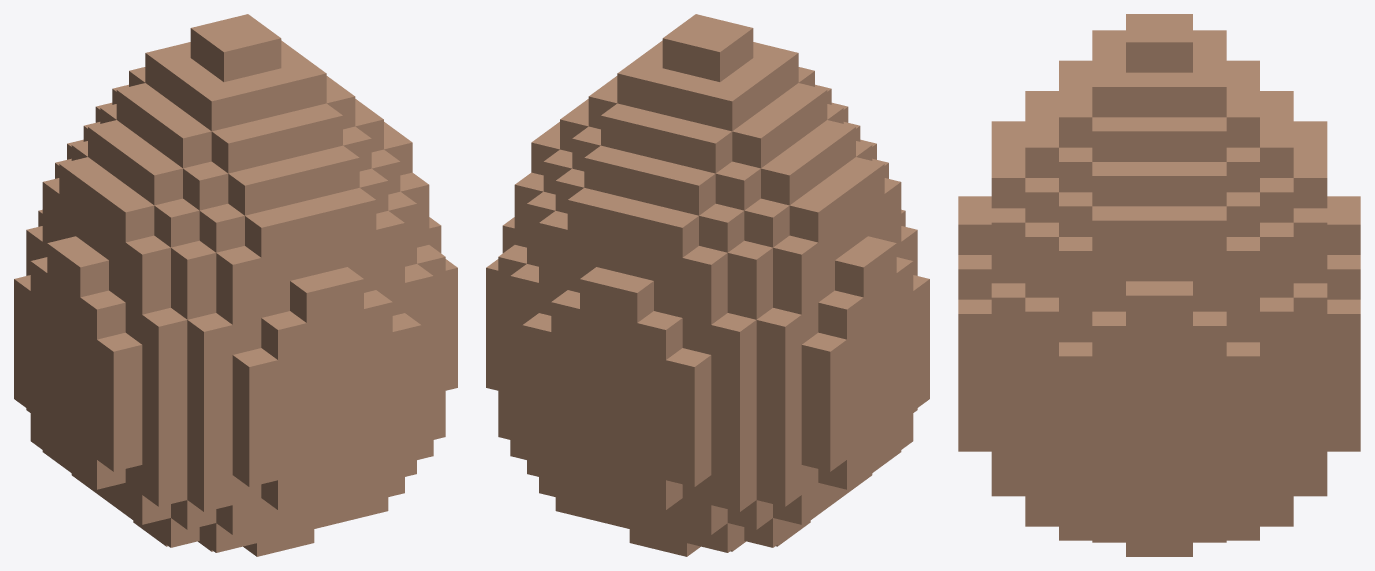
File: Brown_Egg.glb
The picture shows the model from 3 angles, left to right: view 1: azimuth 30°, elevation 25°; view 2: azimuth 150°, elevation 25°; view 3: azimuth 270°, elevation 25°; orthographic projection.
Parts seen in each view (by area): view 1: Cube_copy_copy_copy_copy_copy_copy_copy_copy_copy_copy_copy_ (×71), Cube_copy_1, Cube_copy_copy_copy_6, Cube_copy_copy_copy, Cube_copy_copy_copy_copy_copy_copy_copy_copy_copy, Cube_copy_copy_copy_9, Cube_copy_copy_copy_copy_copy_5, Cube_copy_4, Cube_copy_copy_copy_2, Cube_copy_copy_copy_copy_copy_copy_copy_copy_1, Cube_copy_copy_copy_copy_copy_8, Cube_copy_copy_copy_copy_copy_copy_6 (+59 smaller); view 2: Cube_copy_copy_copy_copy_copy_copy_copy_copy_copy_copy_copy_ (×71), Cube, Cube_copy_copy_copy_copy_copy_15, Cube_copy_copy_1, Cube_copy_copy_copy_copy_copy_17, Cube_copy_copy_copy_copy_copy_copy_copy_25, Cube_copy_copy_copy_20, Cube_copy_copy_4, Cube_copy_copy_copy_copy_copy_copy_copy_21, Cube_copy_copy_copy_copy_copy_copy_24, Cube_copy_copy_copy_copy_copy_copy_21, Cube_copy_copy_copy_copy_copy_copy_copy_copy_22 (+59 smaller); view 3: Cube_copy_copy_copy_copy_copy_copy_copy_copy_copy_copy_copy_ (×99), Cube_copy_copy_copy_copy_copy_copy_12, Cube_copy_copy_copy_copy_copy_copy_copy_copy_copy_copy_2, Cube_copy_copy_copy_copy_6, Cube_copy_5, Cube_copy_copy_12, Cube_copy_copy_copy_copy_copy_copy_19, Cube_copy_copy_copy_copy_18, Cube_copy_copy_8, Cube_copy_copy_copy_copy_4, Cube_copy_copy_copy_13, Cube_copy_copy_copy_copy_9 (+60 smaller).
Boxes of the visible parts, x1=… form: Cube_copy_copy_copy_copy_copy_copy_copy_copy_copy_copy_copy_ (×71): x1=26, y1=21, x2=445, y2=552; Cube_copy_1: x1=80, y1=290, x2=125, y2=339; Cube_copy_copy_copy_6: x1=290, y1=274, x2=335, y2=322; Cube_copy_copy_copy: x1=63, y1=248, x2=108, y2=297; Cube_copy_copy_copy_copy_copy_copy_copy_copy_copy: x1=125, y1=235, x2=170, y2=284; Cube_copy_copy_copy_9: x1=232, y1=348, x2=277, y2=396; Cube_copy_copy_copy_copy_copy_5: x1=142, y1=308, x2=187, y2=356; Cube_copy_4: x1=261, y1=311, x2=306, y2=359; Cube_copy_copy_copy_2: x1=97, y1=332, x2=142, y2=381; Cube_copy_copy_copy_copy_copy_copy_copy_copy_1: x1=125, y1=273, x2=170, y2=314; Cube_copy_copy_copy_copy_copy_8: x1=232, y1=415, x2=277, y2=456; Cube_copy_copy_copy_copy_copy_copy_6: x1=142, y1=405, x2=187, y2=446; Cube_copy_copy_copy_copy_copy_copy_copy_copy_copy_copy_copy_ (×71): x1=510, y1=21, x2=884, y2=552; Cube: x1=818, y1=290, x2=863, y2=339; Cube_copy_copy_copy_copy_copy_15: x1=608, y1=274, x2=653, y2=322; Cube_copy_copy_1: x1=835, y1=248, x2=880, y2=297; Cube_copy_copy_copy_copy_copy_17: x1=666, y1=348, x2=711, y2=396; Cube_copy_copy_copy_copy_copy_copy_copy_25: x1=711, y1=313, x2=756, y2=361; Cube_copy_copy_copy_20: x1=637, y1=311, x2=682, y2=359; Cube_copy_copy_4: x1=801, y1=332, x2=846, y2=381; Cube_copy_copy_copy_copy_copy_copy_copy_21: x1=666, y1=415, x2=711, y2=456; Cube_copy_copy_copy_copy_copy_copy_24: x1=711, y1=350, x2=756, y2=391; Cube_copy_copy_copy_copy_copy_copy_21: x1=666, y1=385, x2=711, y2=426; Cube_copy_copy_copy_copy_copy_copy_copy_copy_22: x1=711, y1=410, x2=756, y2=451; Cube_copy_copy_copy_copy_copy_copy_copy_copy_copy_copy_copy_ (×99): x1=991, y1=14, x2=1327, y2=556; Cube_copy_copy_copy_copy_copy_copy_12: x1=991, y1=283, x2=1025, y2=327; Cube_copy_copy_copy_copy_copy_copy_copy_copy_copy_copy_2: x1=991, y1=208, x2=1025, y2=252; Cube_copy_copy_copy_copy_6: x1=958, y1=299, x2=991, y2=344; Cube_copy_5: x1=1092, y1=311, x2=1125, y2=356; Cube_copy_copy_12: x1=1193, y1=311, x2=1226, y2=356; Cube_copy_copy_copy_copy_copy_copy_19: x1=1260, y1=297, x2=1293, y2=342; Cube_copy_copy_copy_copy_18: x1=1327, y1=299, x2=1360, y2=344; Cube_copy_copy_8: x1=958, y1=255, x2=991, y2=299; Cube_copy_copy_copy_copy_4: x1=958, y1=210, x2=991, y2=254; Cube_copy_copy_copy_13: x1=1126, y1=281, x2=1159, y2=325; Cube_copy_copy_copy_copy_9: x1=1159, y1=281, x2=1192, y2=325.
Size of the model in its own units: 1.2 by 1.6 by 1.2.
